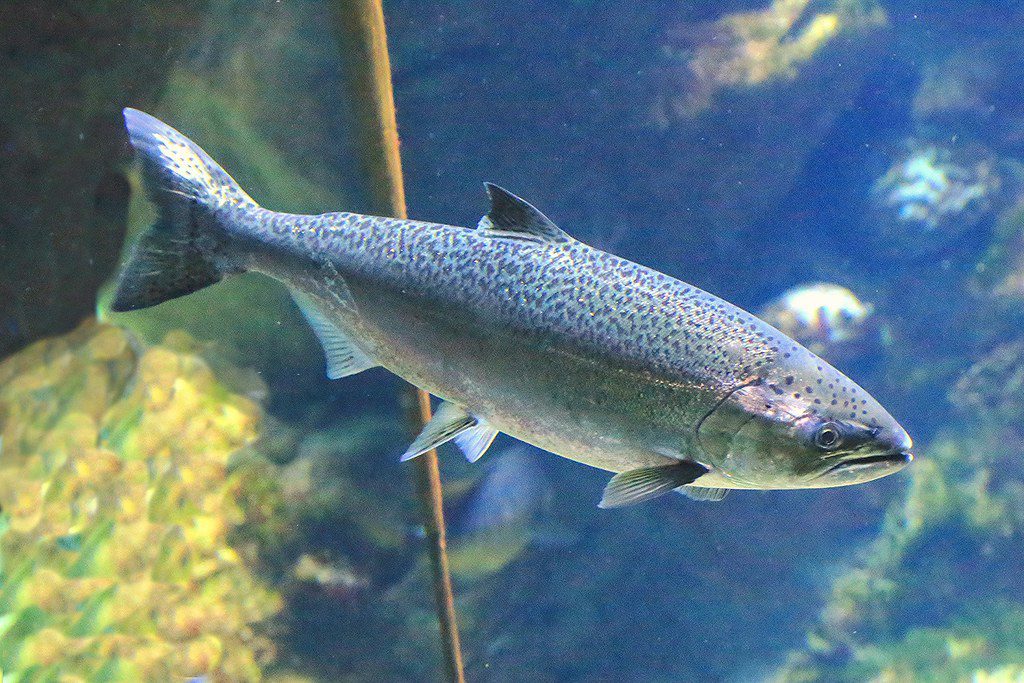Chinook salmon: (93, 93, 916, 521)
